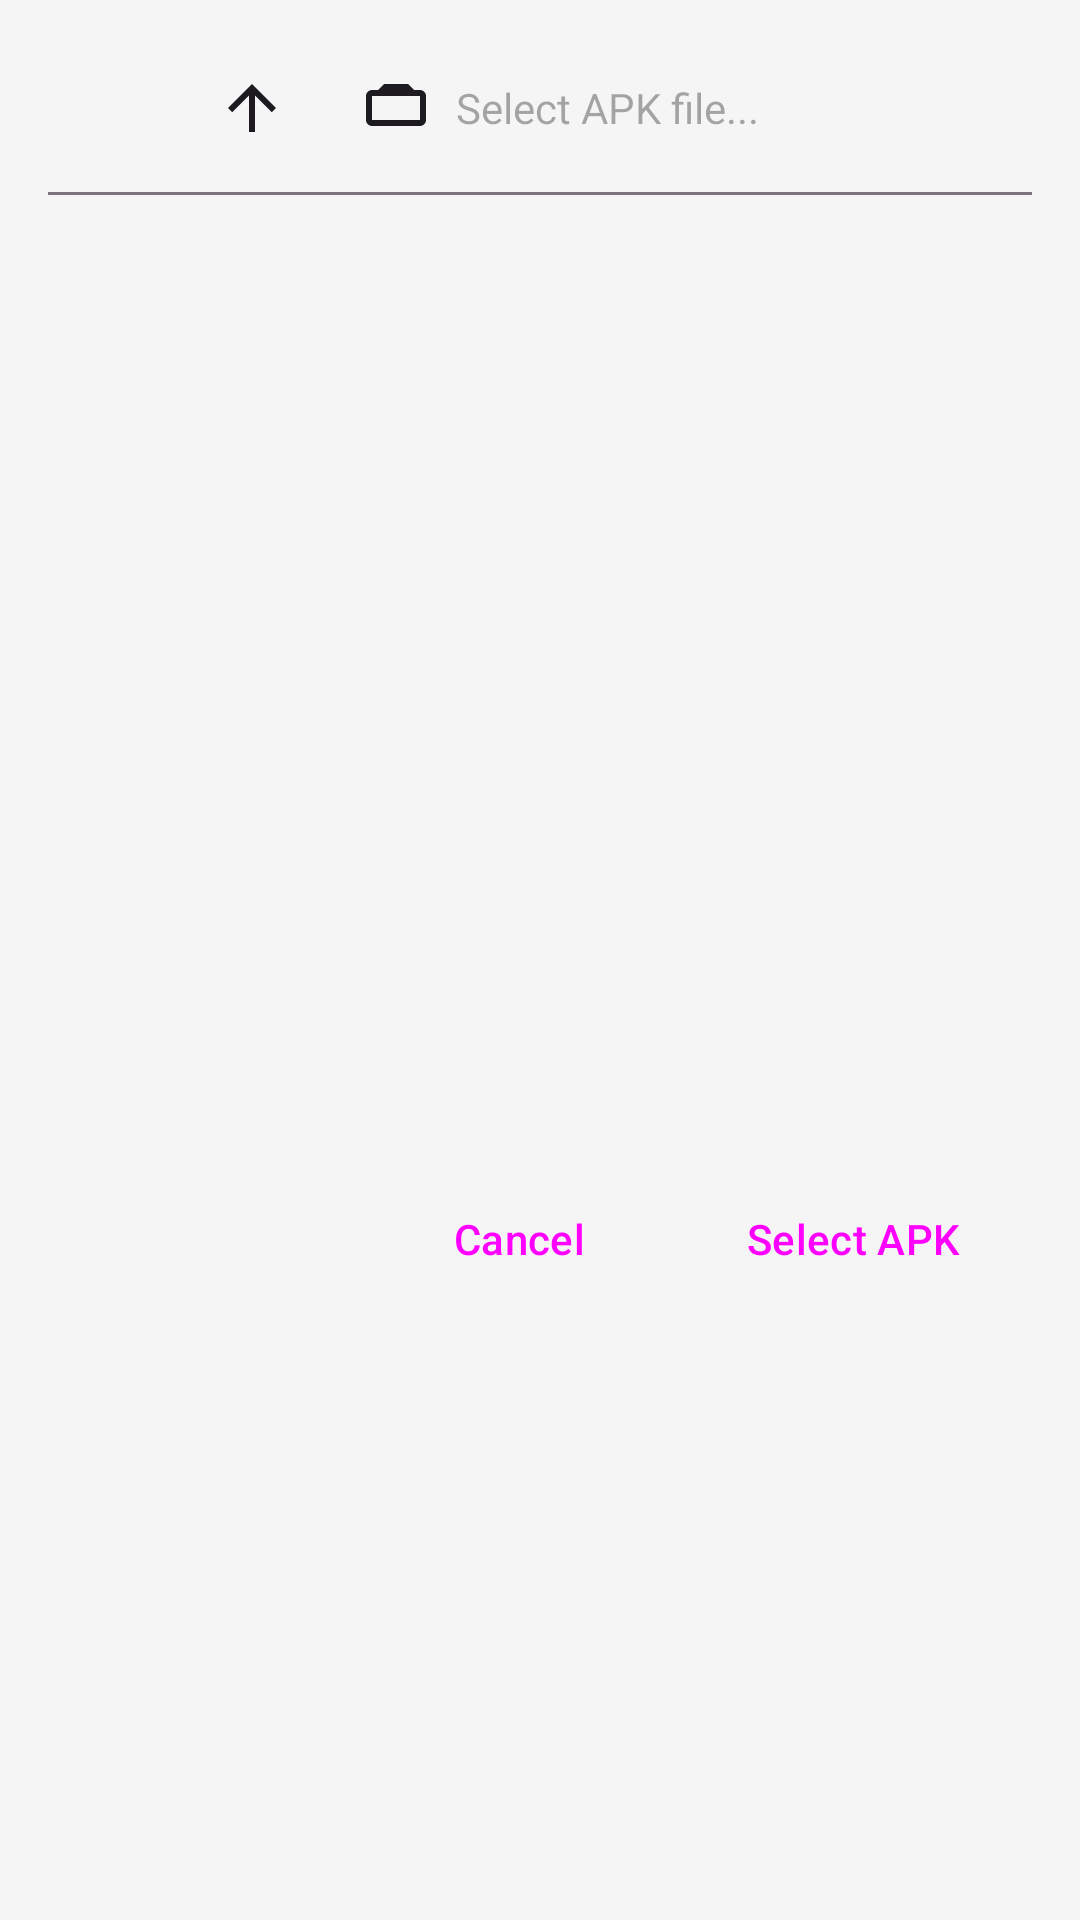

Icon bounding boxes for this 1080w x 1920h phone screenshot, format (x1, y1, x2, y2):
Go to parent directory: (228, 84, 276, 132)
